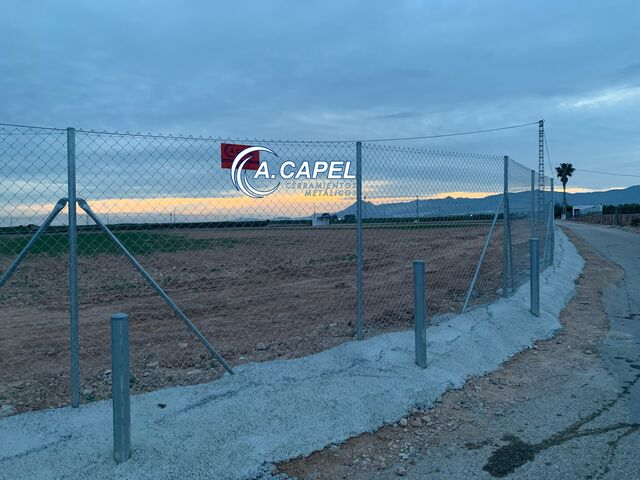Poste: (107, 312, 136, 464), (410, 258, 426, 370)
Valla: (1, 129, 361, 393), (361, 144, 510, 332)
